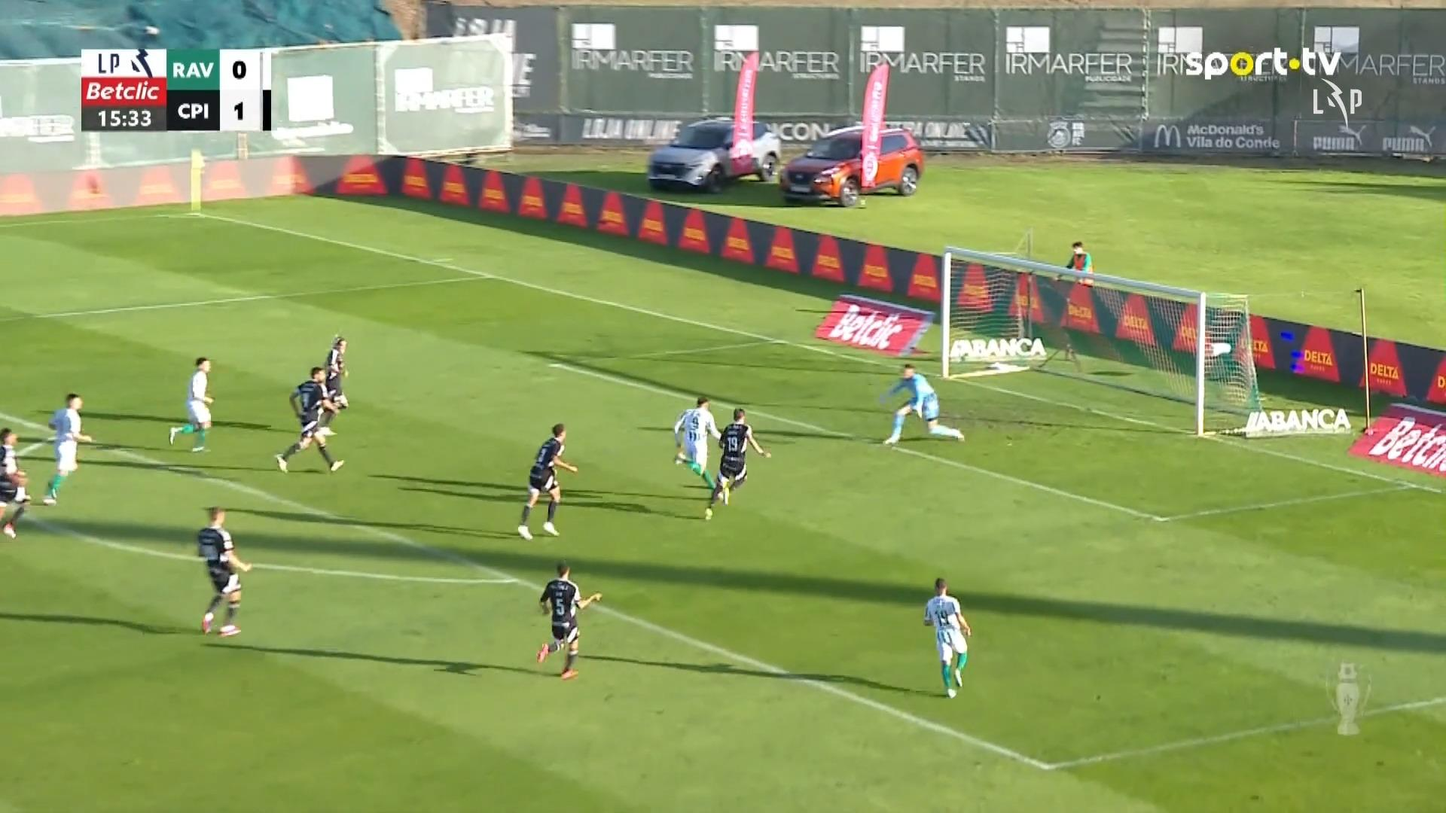goalkeeper: (880, 362, 965, 446)
player: (535, 561, 602, 679), (273, 365, 345, 473), (703, 406, 771, 519), (196, 505, 252, 636), (517, 422, 578, 540), (41, 392, 95, 505), (923, 576, 971, 698), (672, 394, 723, 492), (167, 356, 215, 452), (0, 427, 31, 538), (316, 334, 349, 435)
